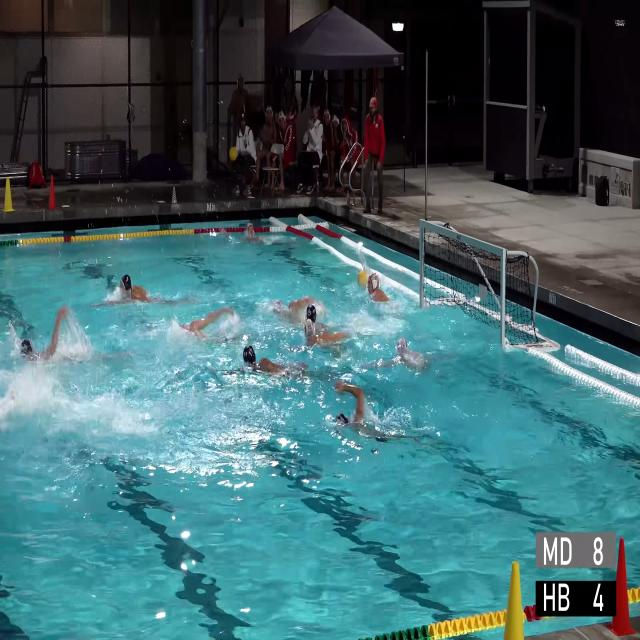ball: (358, 270, 368, 286), (229, 147, 238, 160)
